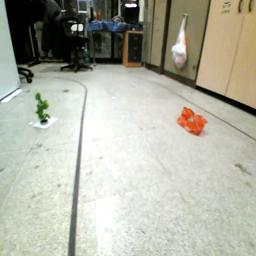herb: (35, 94, 53, 124)
